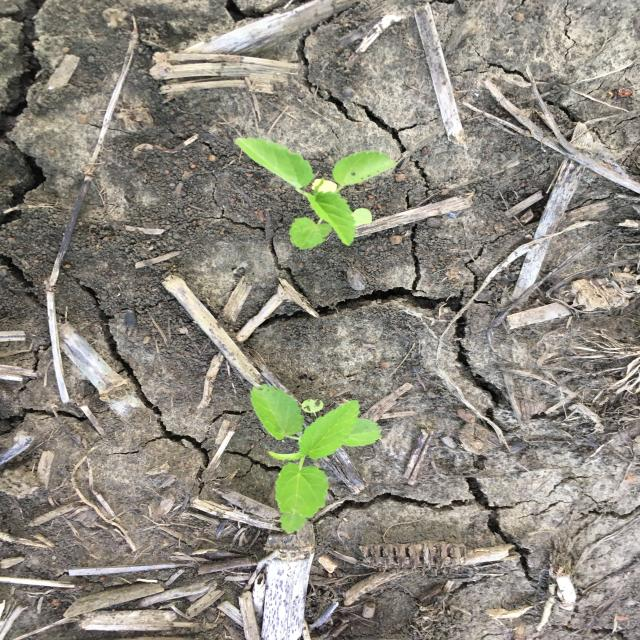PricklySida: (248, 382, 384, 535), (233, 136, 400, 252)
